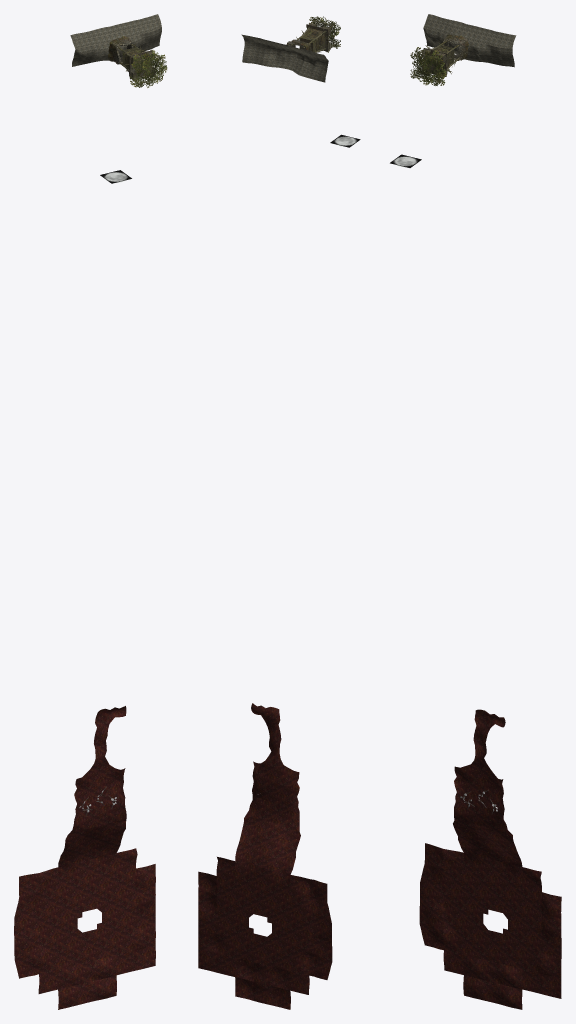
The model's file is map_surface.obj.
3 views of the same model, side by side, from view 1: azimuth 30°, elevation 25°; view 2: azimuth 150°, elevation 25°; view 3: azimuth 330°, elevation 25° (orthographic). The views are drawn at different scales.
Parts seen in each view (by area): view 1: VBSP_Object_model_0, VBSP_Object_model_instance_0_Body_woodentower_smd_mesh_0, VBSP_Object_model_instance_0_Body_woodentower_smd_mesh_1; view 2: VBSP_Object_model_0, VBSP_Object_model_instance_0_Body_woodentower_smd_mesh_0, VBSP_Object_model_instance_0_Body_woodentower_smd_mesh_1; view 3: VBSP_Object_model_0, VBSP_Object_model_instance_0_Body_woodentower_smd_mesh_1, VBSP_Object_model_instance_0_Body_woodentower_smd_mesh_0.
Boxes of the visible parts, box(x1,y1,x2,y2) form: VBSP_Object_model_0: box(14, 14, 161, 1009); VBSP_Object_model_instance_0_Body_woodentower_smd_mesh_0: box(108, 36, 162, 85); VBSP_Object_model_instance_0_Body_woodentower_smd_mesh_1: box(123, 49, 167, 87); VBSP_Object_model_0: box(198, 34, 360, 1009); VBSP_Object_model_instance_0_Body_woodentower_smd_mesh_0: box(286, 18, 336, 52); VBSP_Object_model_instance_0_Body_woodentower_smd_mesh_1: box(302, 16, 340, 52); VBSP_Object_model_0: box(390, 14, 561, 1009); VBSP_Object_model_instance_0_Body_woodentower_smd_mesh_1: box(410, 47, 451, 85); VBSP_Object_model_instance_0_Body_woodentower_smd_mesh_0: box(413, 34, 468, 83).
Bounding box in the file's own units: 1856 × 12534 × 1525.
